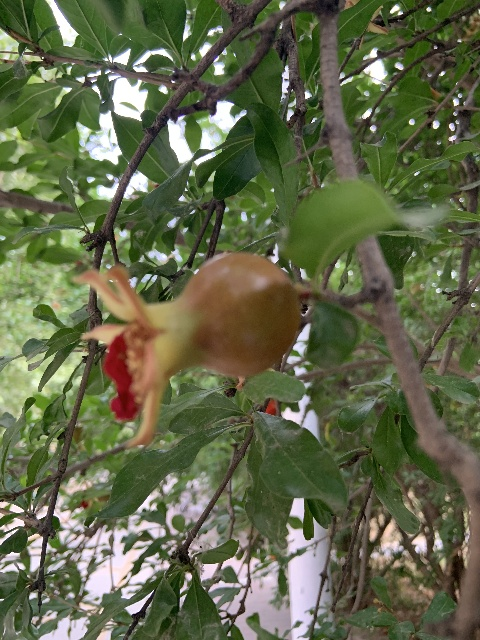early-fruit: (81, 252, 300, 447)
